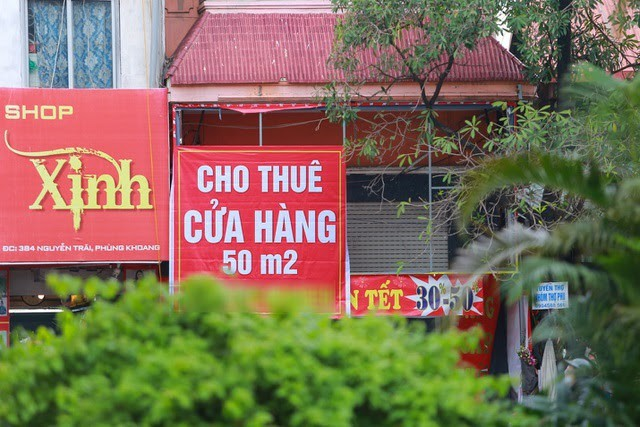banner: (168, 138, 351, 322), (1, 85, 172, 272), (352, 270, 490, 316), (527, 280, 576, 311)
